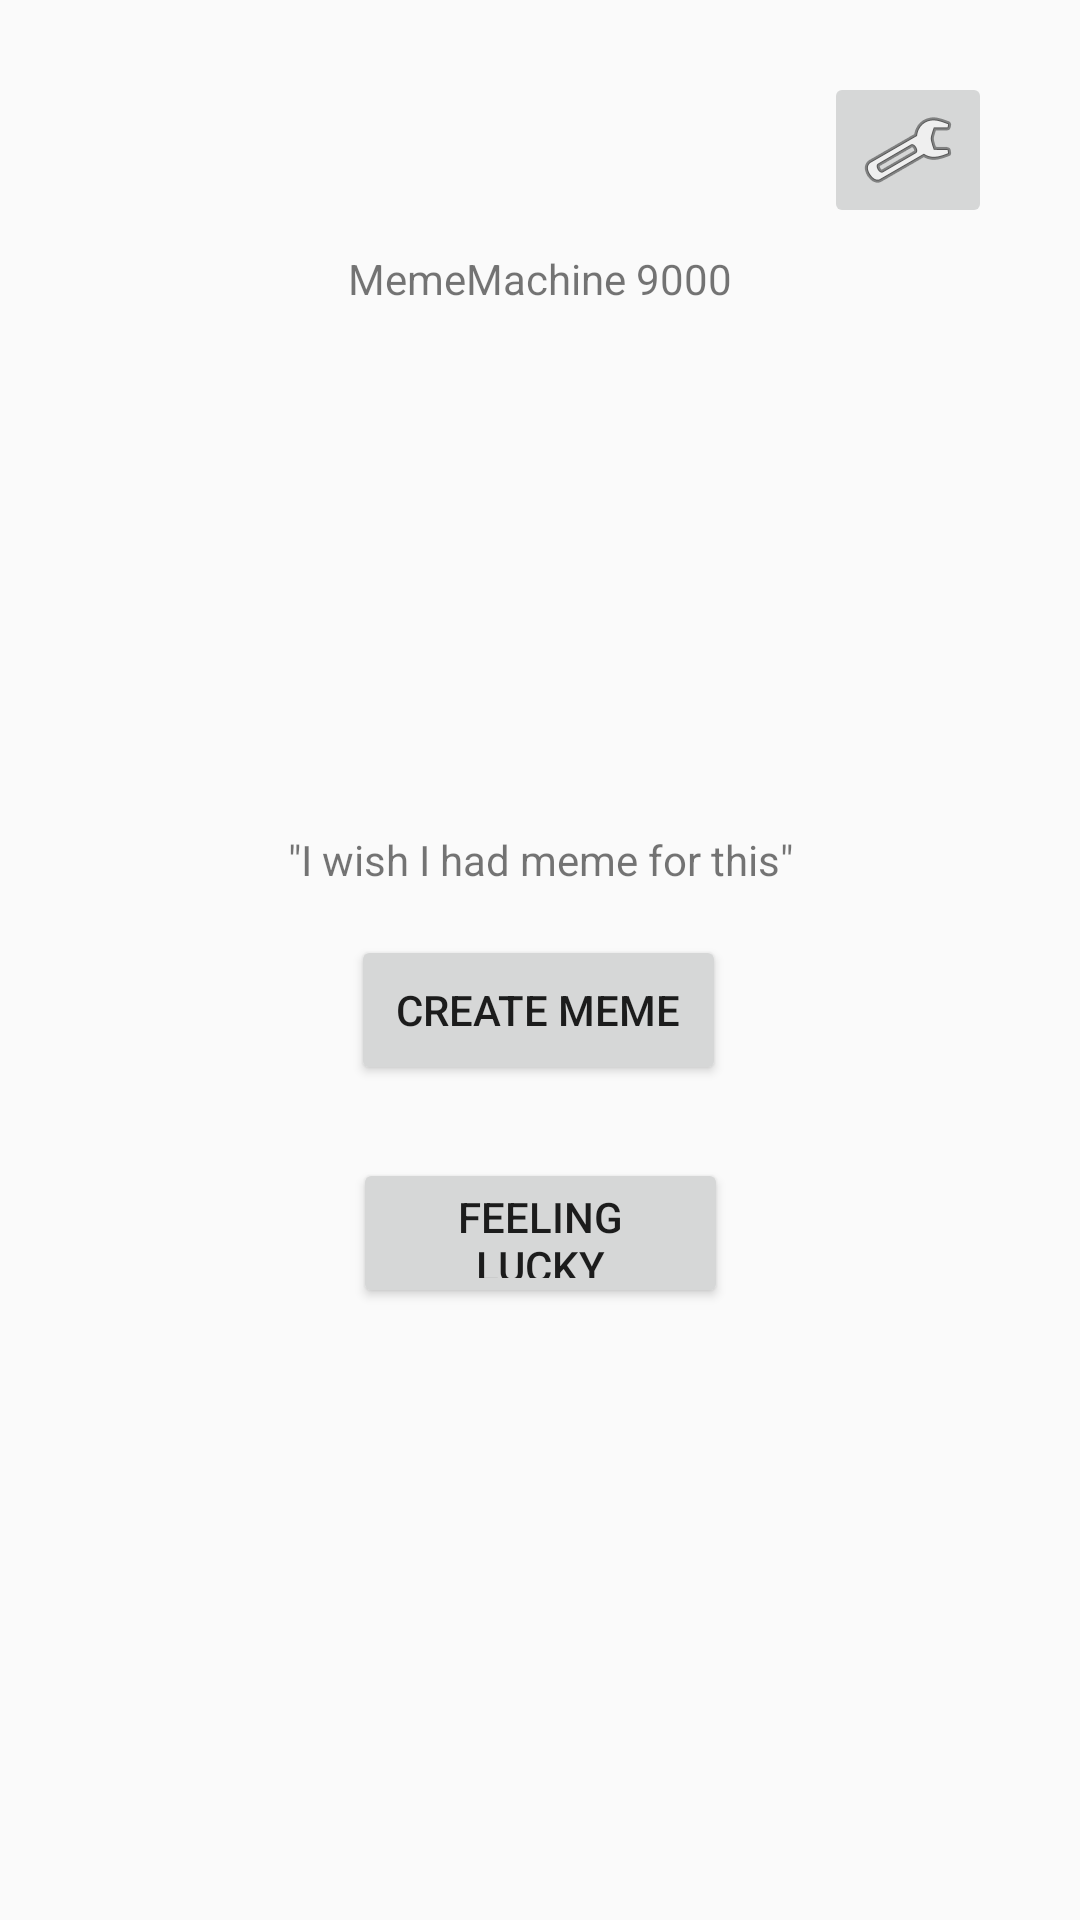

Where to tap for icons on this 1080w x 1920h app screen, as point (x, y):
manage: point (908, 150)
